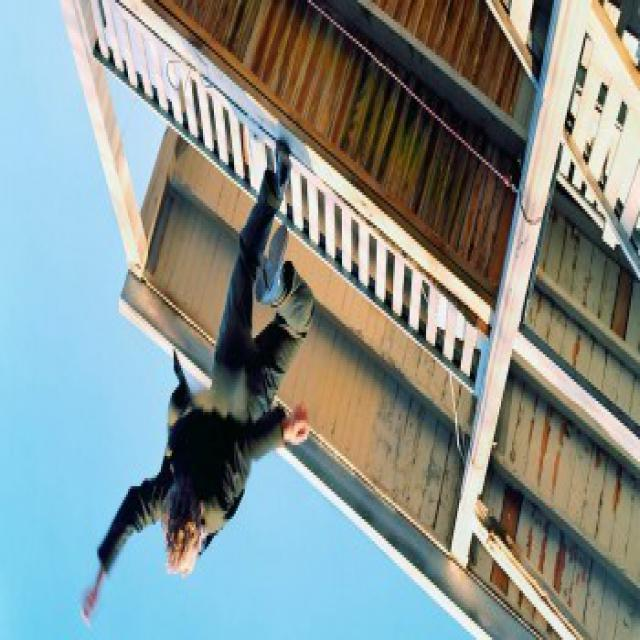fall: (80, 133, 320, 619)
